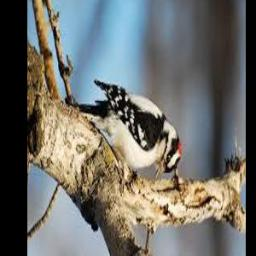Woodpecker: (72, 80, 181, 182)
